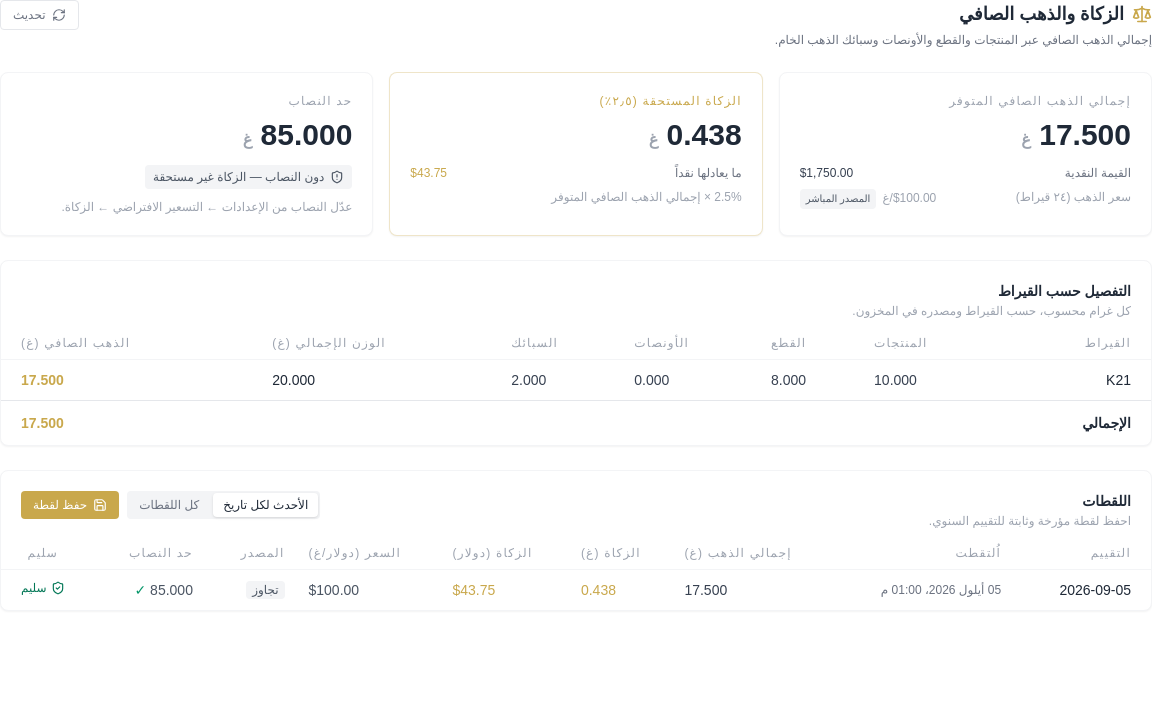
Test: zakat page labels and i18n (NEX-64) › snapshot dialog: both fields are reachable by their labels, and each label's control is its field
The image size is (1152, 720).
Click the button "حفظ لقطة".
click(70, 505)  # box top-left (21, 491), bottom-right (119, 519)
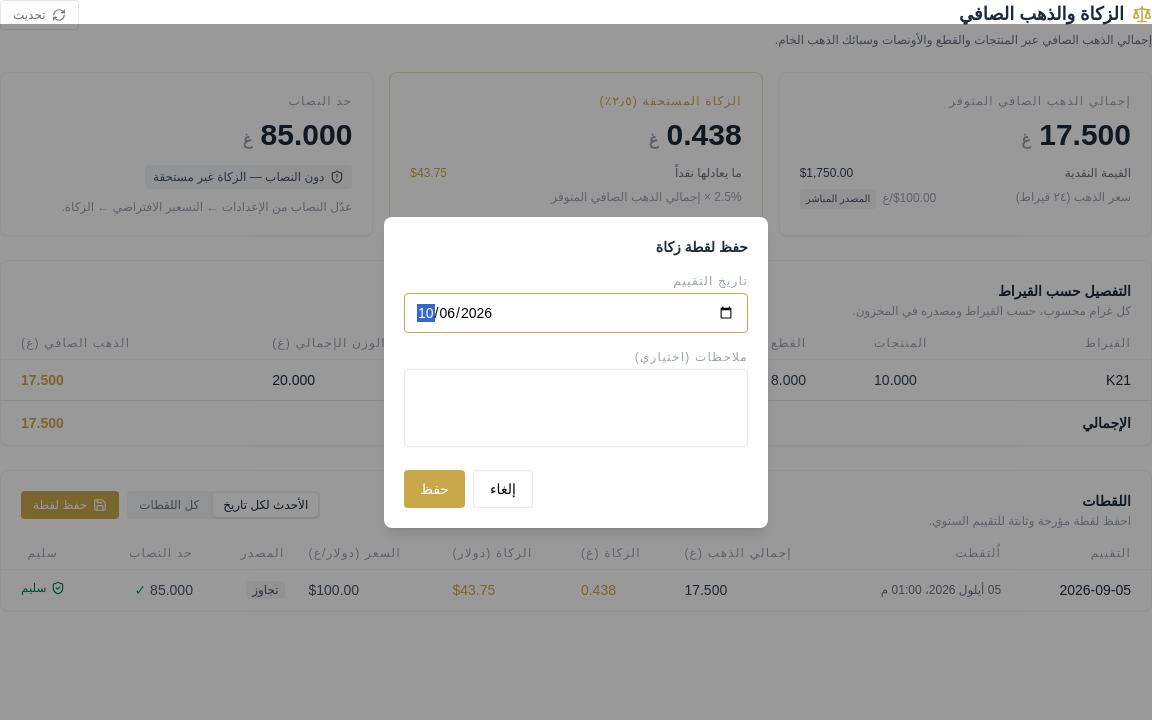
Expected: the number of labels is 2, top-left (404, 272), bottom-right (748, 332); top-left (404, 348), bottom-right (748, 454)
